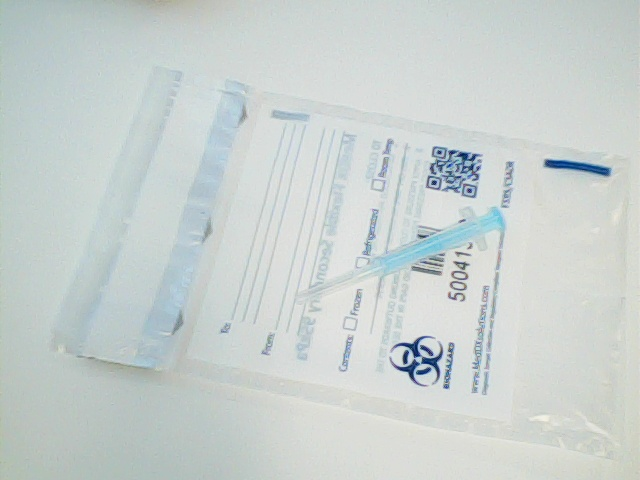syringe: (290, 201, 516, 313)
